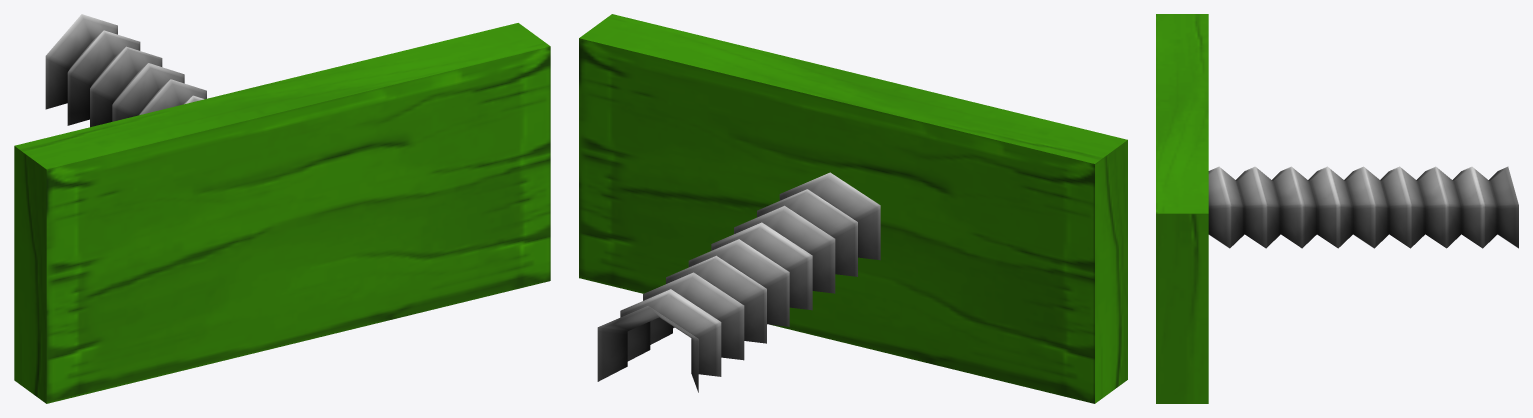
The model's file is wall_green_01.fbx.
3 renders of one model, left to right at view 1: azimuth 30°, elevation 25°; view 2: azimuth 150°, elevation 25°; view 3: azimuth 270°, elevation 25°, orthographic. The views are drawn at different scales.
Visible parts, largest first — view 1: wall_1, spring_7; view 2: wall_1, spring_7; view 3: spring_7, wall_1.
Boxes of the visible parts, x1,y1,x2,y2 form: wall_1: (14, 23, 550, 403); spring_7: (45, 14, 206, 127); wall_1: (579, 14, 1127, 403); spring_7: (597, 172, 880, 392); spring_7: (1208, 166, 1518, 248); wall_1: (1156, 14, 1208, 403).
Bounding box in the file's own units: 90 × 40 × 69.12.
